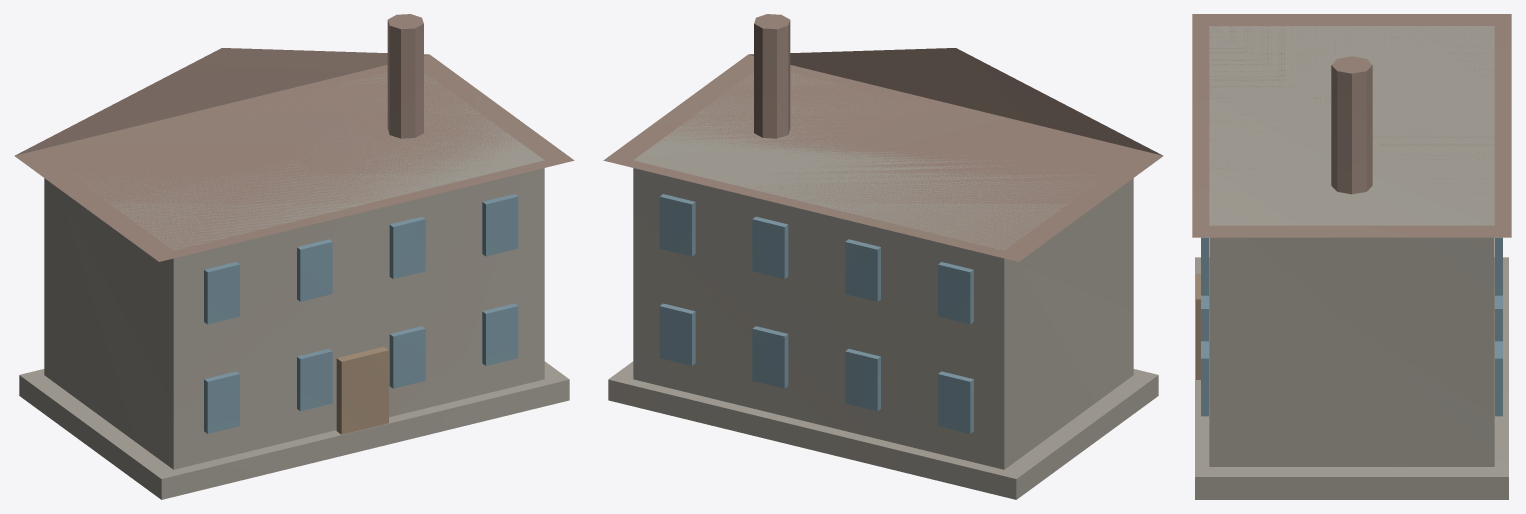
Rendered from cottage-03.glb.
The picture shows the model from 3 angles, left to right: view 1: azimuth 30°, elevation 25°; view 2: azimuth 150°, elevation 25°; view 3: azimuth 270°, elevation 25°; orthographic projection. The views are drawn at different scales.
Visible parts, largest first — view 1: world; view 2: world; view 3: world.
Part boxes in pixels (x1,y1,x2,y2): world: (14, 14, 574, 499); world: (603, 14, 1163, 499); world: (1192, 14, 1511, 499).
Bounding box in the file's own units: 1.67 × 1.34 × 1.01.
